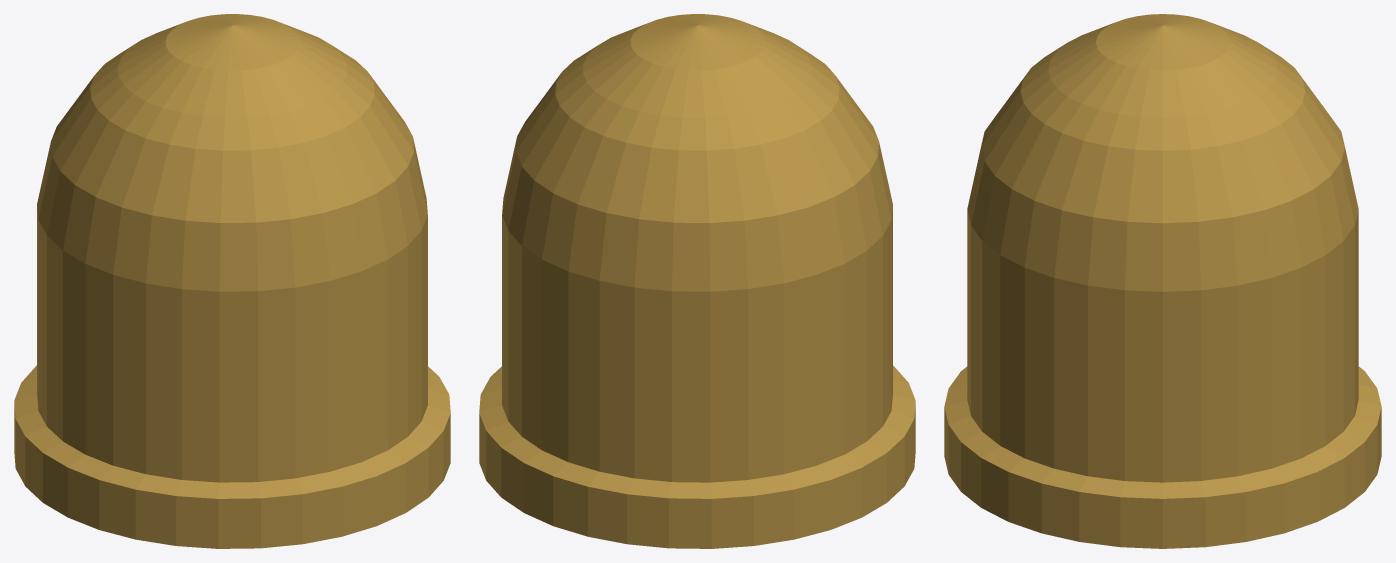
File: Bullet.fbx
3 renders of one model, left to right at view 1: azimuth 30°, elevation 25°; view 2: azimuth 150°, elevation 25°; view 3: azimuth 270°, elevation 25°, orthographic.
Parts seen in each view (by area): view 1: Cylinder; view 2: Cylinder; view 3: Cylinder.
Boxes of the visible parts, x1,y1,x2,y2 form: Cylinder: (14,14,450,548); Cylinder: (479,14,915,548); Cylinder: (944,14,1381,548).
Size of the model in its own units: 57.85 by 62.93 by 57.85.
